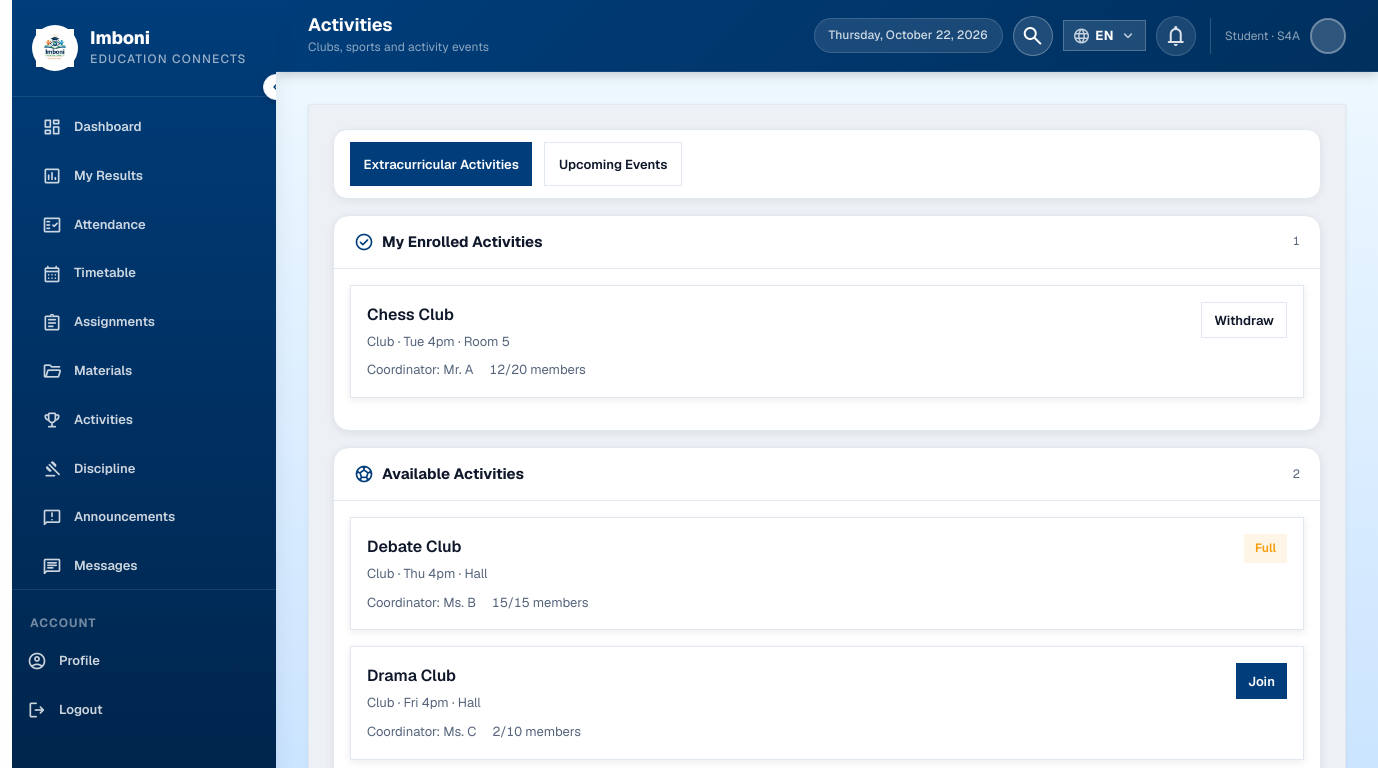
Test: StudentActivities › says so when joining fails, and reloads nothing
The width and height of the screenshot is (1378, 768).
Expected: the text "Drama Club" is shown, top-left (367, 665), bottom-right (456, 686)
Click the button "Join" at [1262, 681], box top-left (1236, 663), bottom-right (1287, 699)
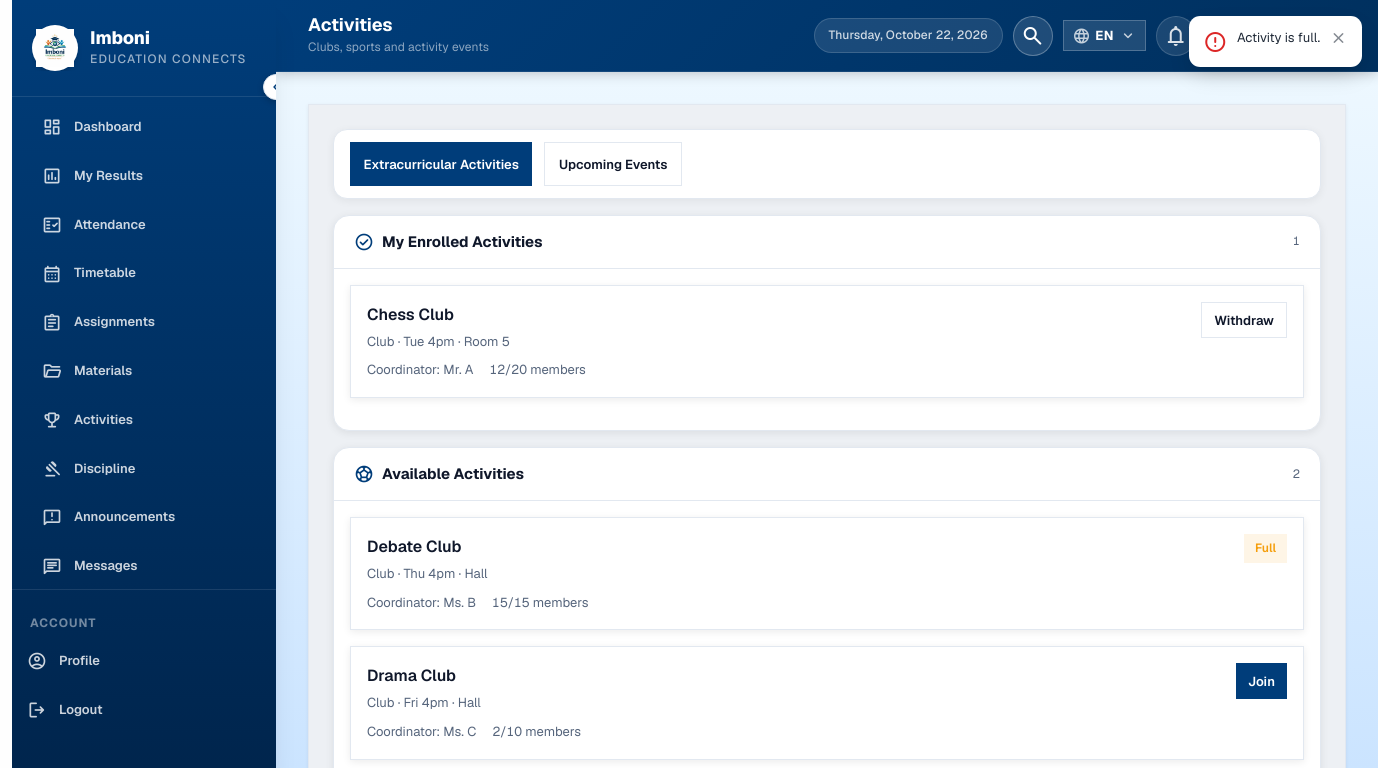
Result: the text "Activity is full." is shown at top-left (1237, 29), bottom-right (1320, 47)
